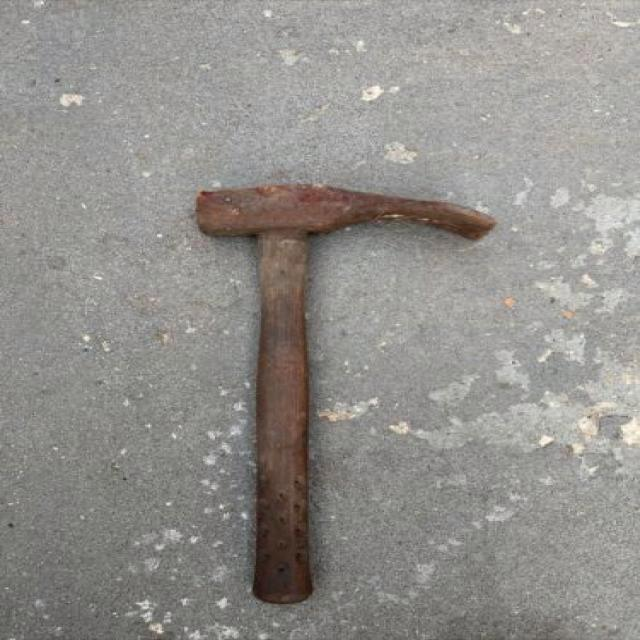hammer: (176, 167, 507, 613)
